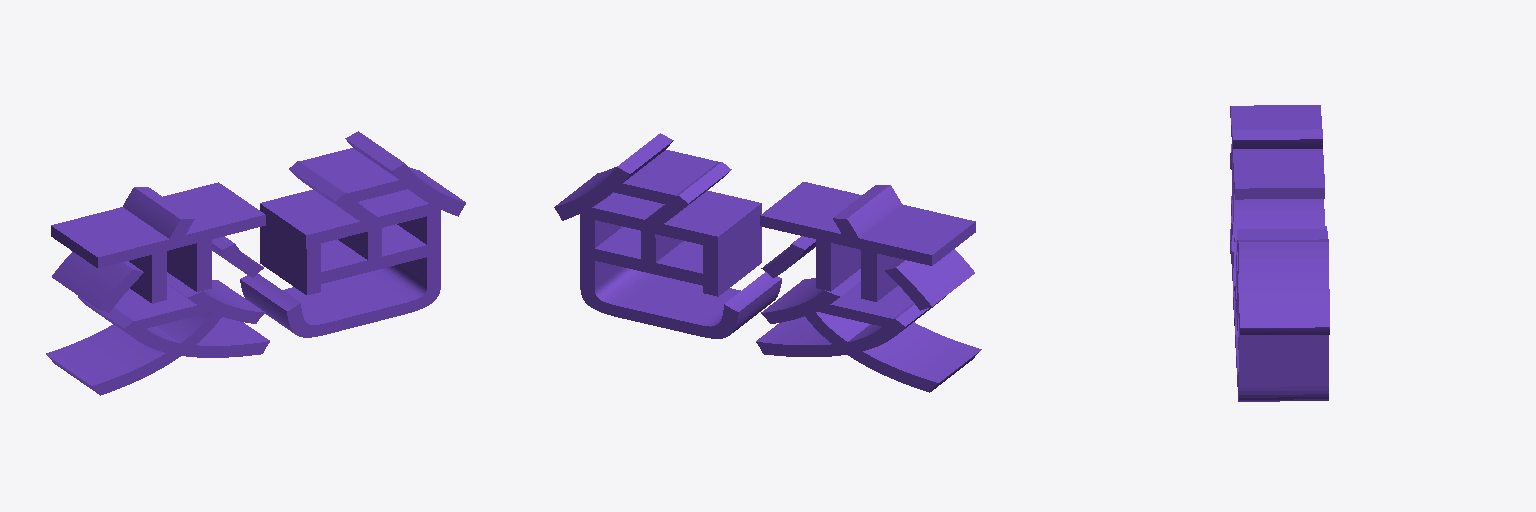
The picture shows the model from 3 angles: view 1: azimuth 30°, elevation 25°; view 2: azimuth 150°, elevation 25°; view 3: azimuth 270°, elevation 25°; orthographic projection.
Parts seen in each view (by area): view 1: テキスト; view 2: テキスト; view 3: テキスト.
Boxes of the visible parts, box(x1,y1,x2,y2) form: テキスト: box(46, 131, 465, 395); テキスト: box(554, 133, 981, 392); テキスト: box(1230, 105, 1329, 401).
Size of the model in its own units: 4.8 by 1.87 by 1.09.
1 materials, 1 textured.